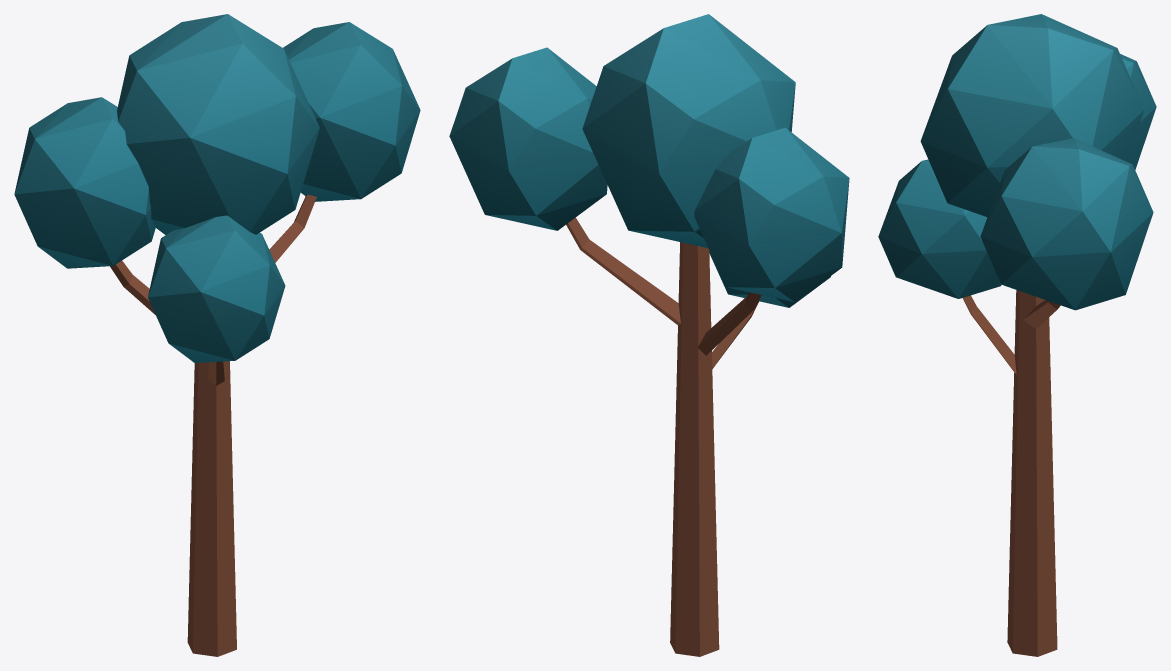
File: Tree_35_gradient_blue_vc.fbx
The picture shows the model from 3 angles, left to right: view 1: azimuth 30°, elevation 25°; view 2: azimuth 150°, elevation 25°; view 3: azimuth 270°, elevation 25°; orthographic projection.
Parts seen in each view (by area): view 1: Tree_35_gradient_blue_vc; view 2: Tree_35_gradient_blue_vc; view 3: Tree_35_gradient_blue_vc.
Boxes of the visible parts, x1,y1,x2,y2 form: Tree_35_gradient_blue_vc: (14, 14, 420, 656); Tree_35_gradient_blue_vc: (449, 14, 849, 656); Tree_35_gradient_blue_vc: (878, 14, 1156, 656).
Size of the model in its own units: 423 by 658 by 264.
